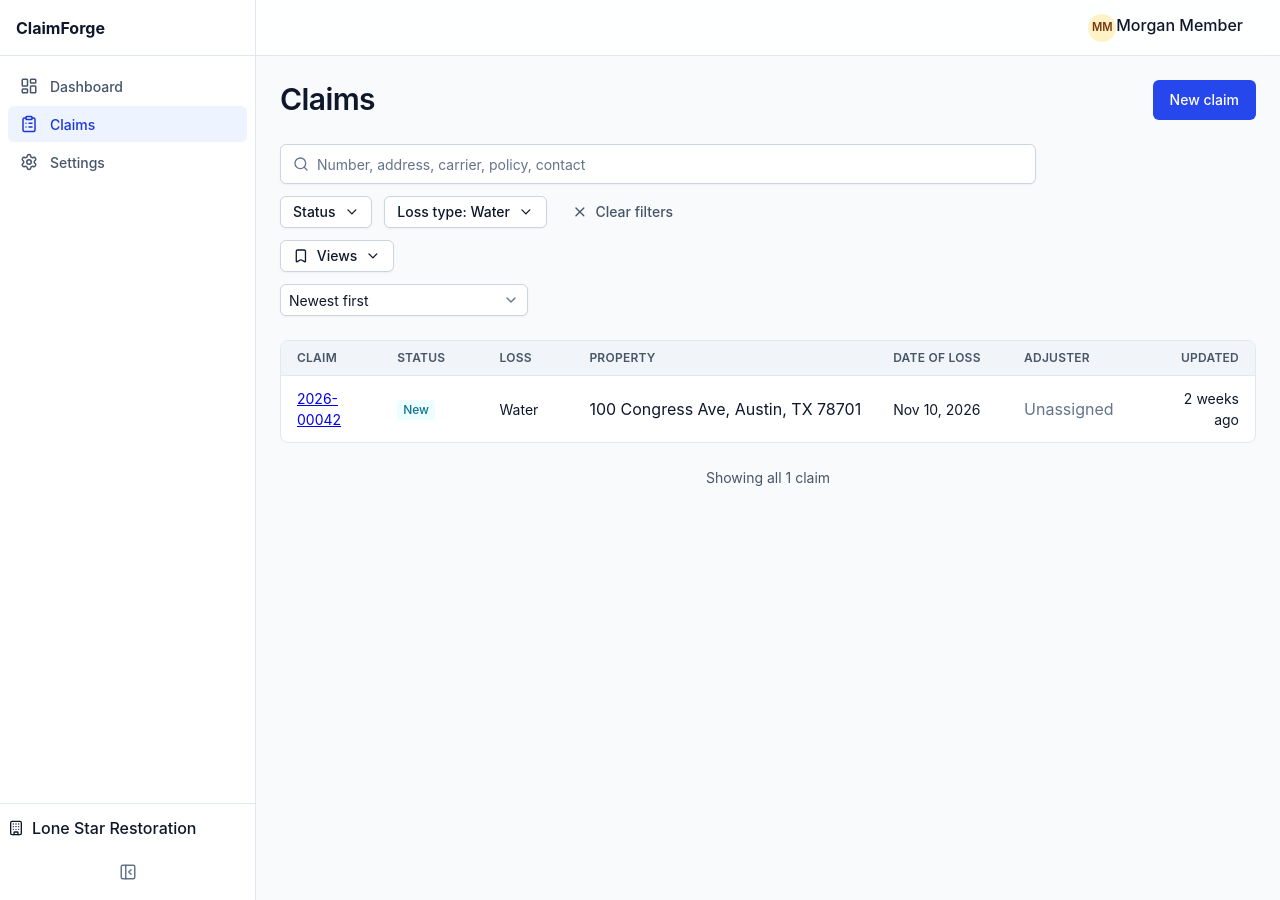
Test: saved views › a name already used is refused in the dialog
Click the button "Views" at point(337, 256), box [280, 240, 394, 272]
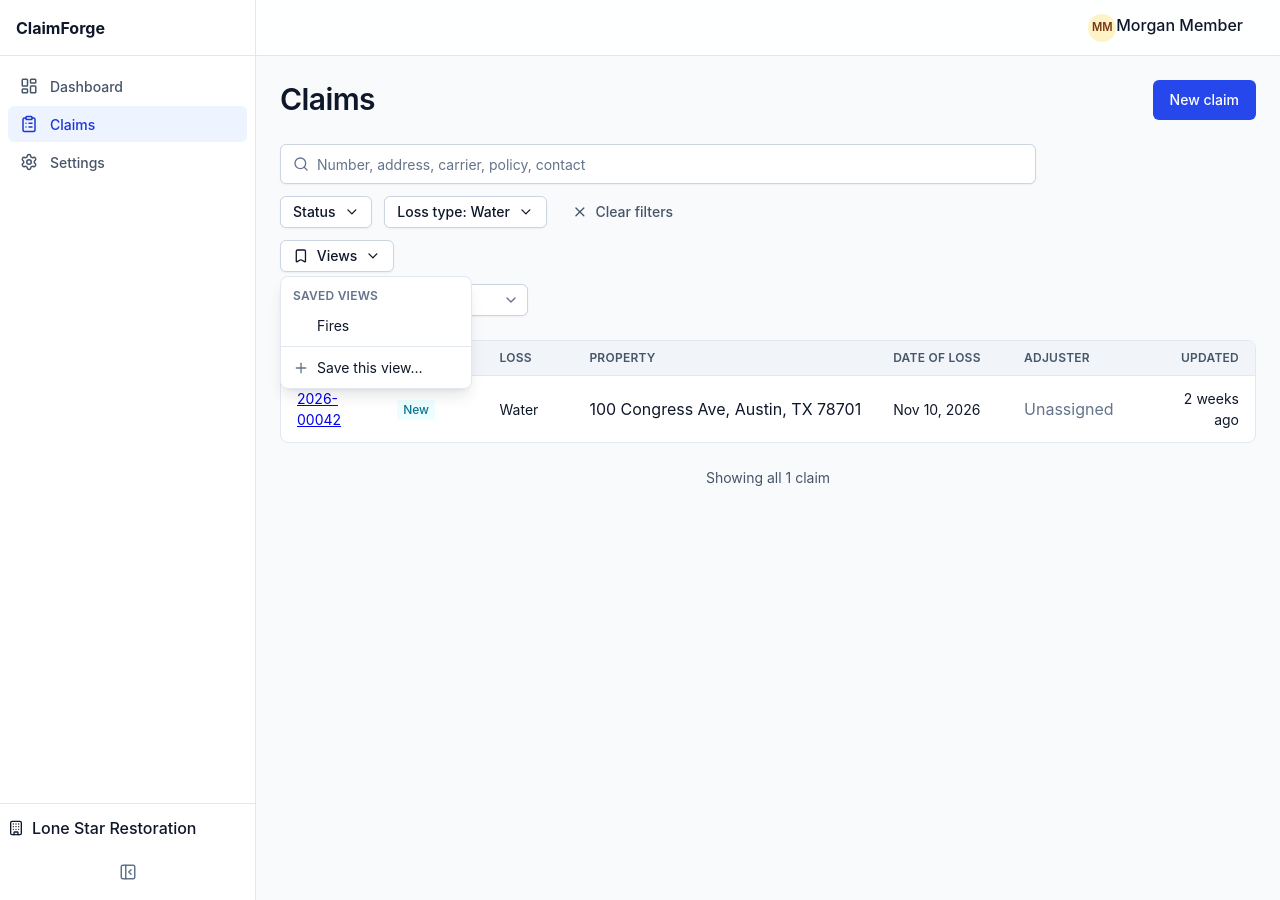
Click the menu item "Save this view…" at point(358, 368), box [293, 359, 423, 376]
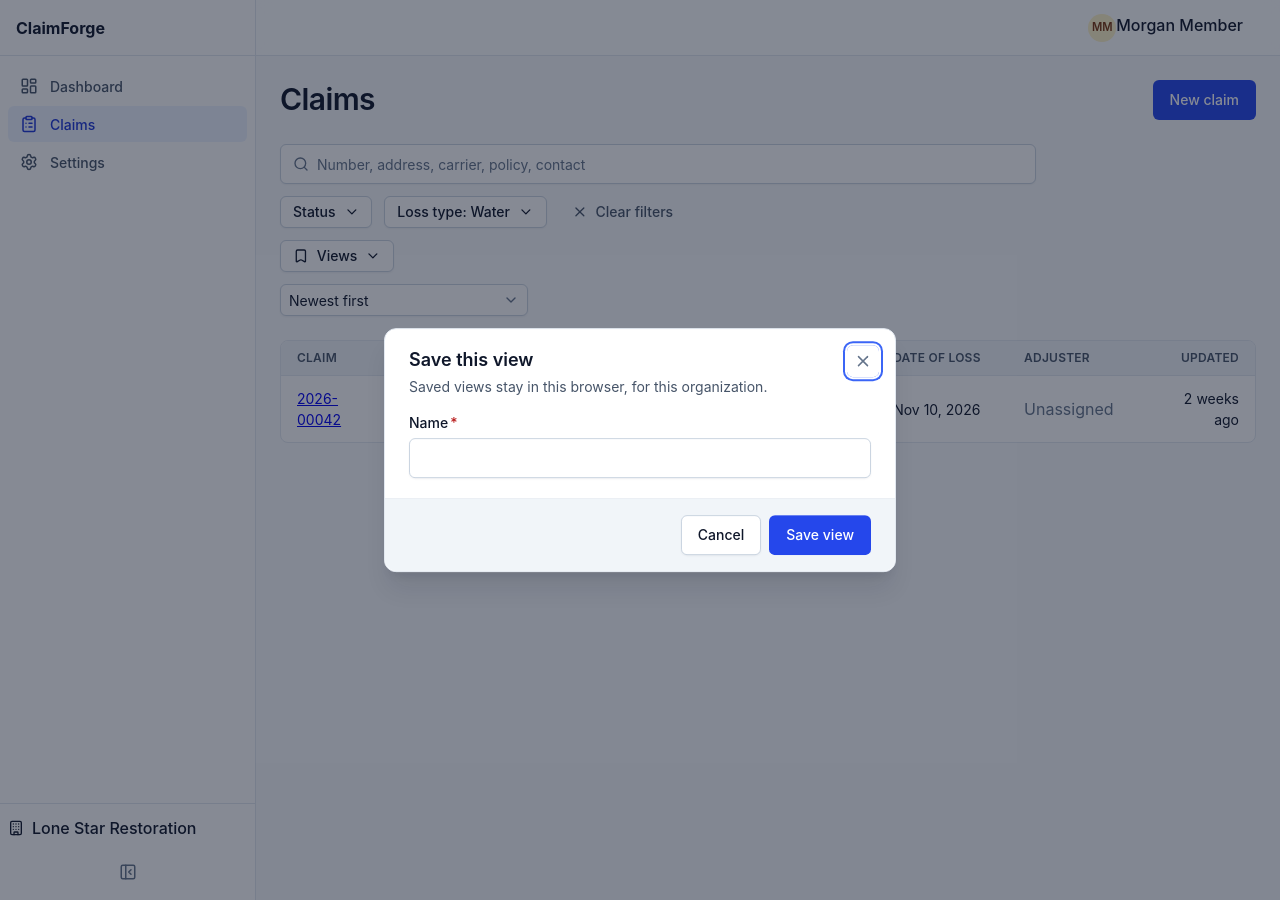
Type "fires" into the field labelled "Name*" at point(640, 458), box [422, 439, 858, 477]
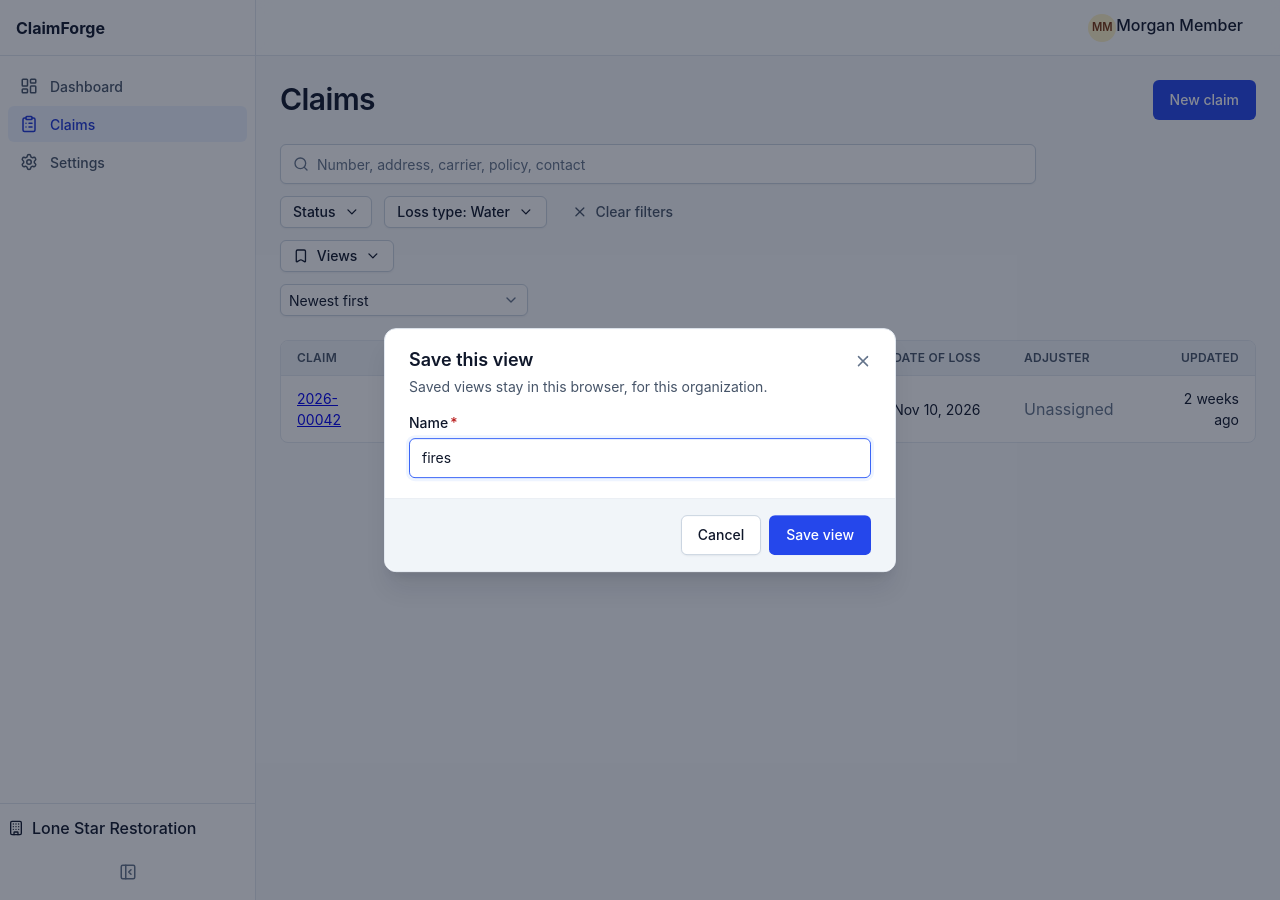
Click the button "Save view" at point(820, 535), box [769, 515, 871, 555]
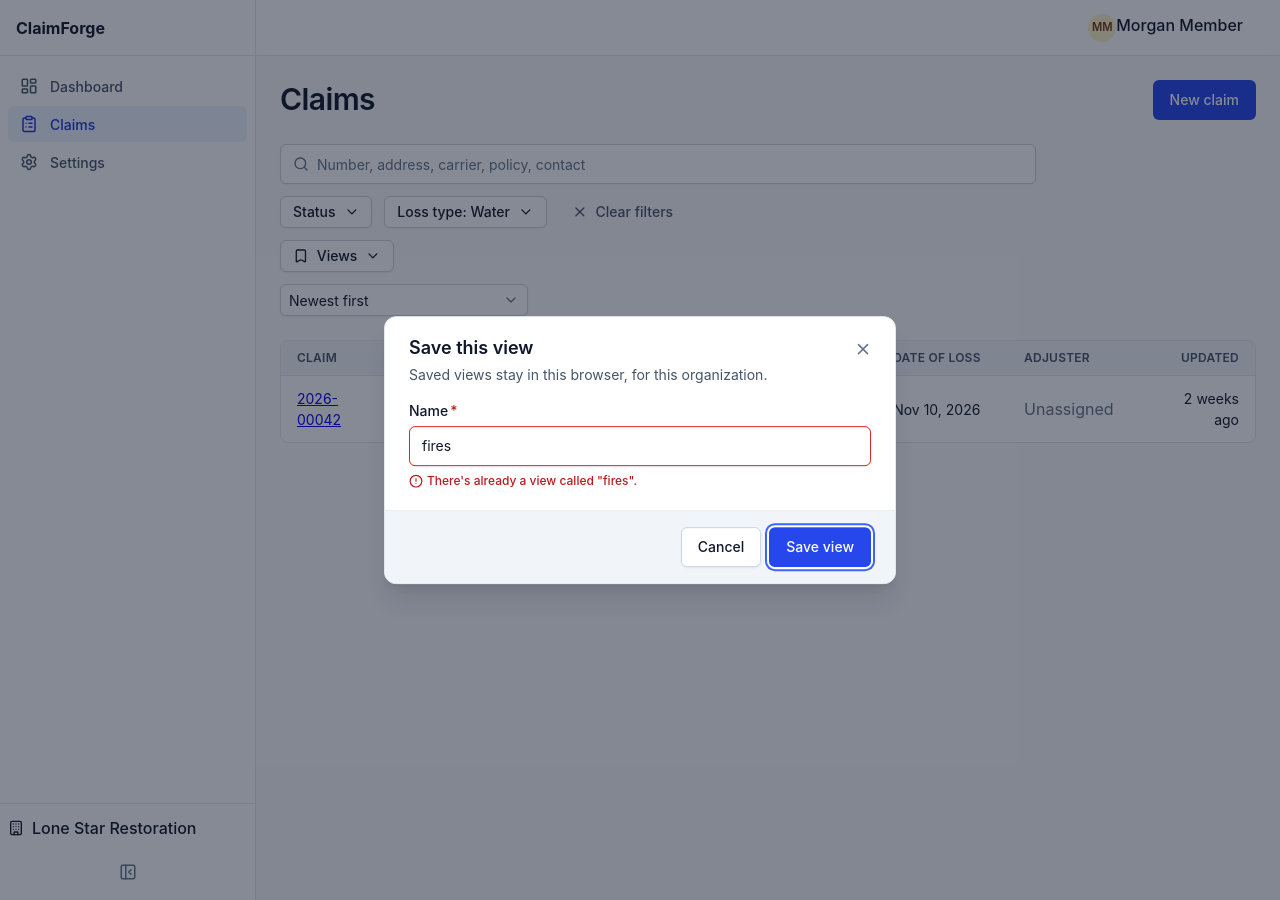
Expected: the text "There's already a view called \"fires\"." is shown, [427, 472, 637, 490]
